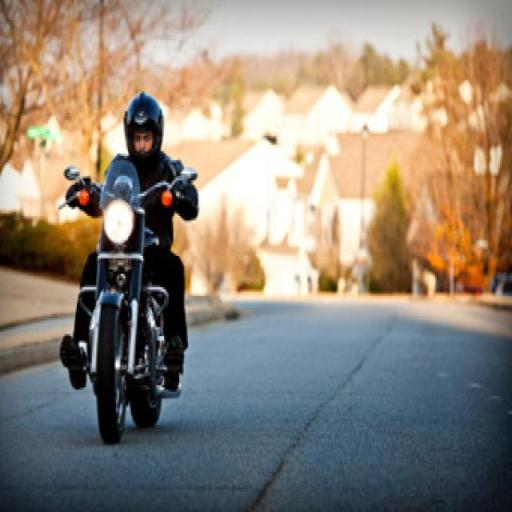Helmet: (124, 92, 163, 163)
Motor: (60, 160, 196, 443)
